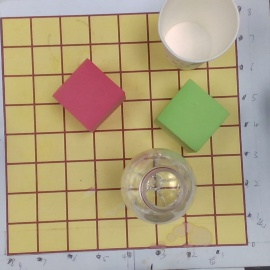bottle: (121, 150, 196, 224)
cup: (155, 1, 239, 68)
